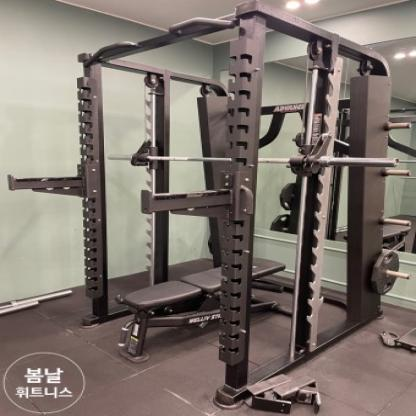smith machine: (71, 0, 390, 411)
